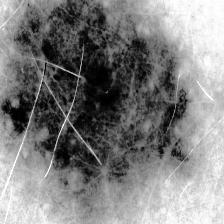Benign Marking or Mole: (0, 0, 197, 206)
